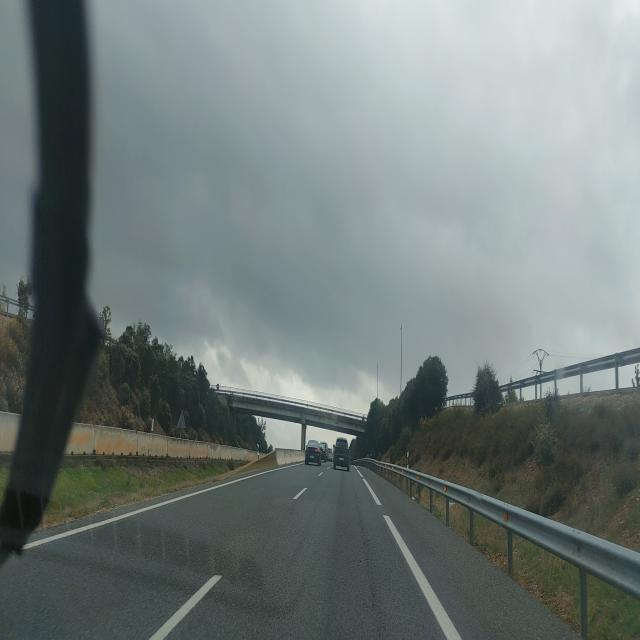Poth-hole: (355, 496, 385, 640)
